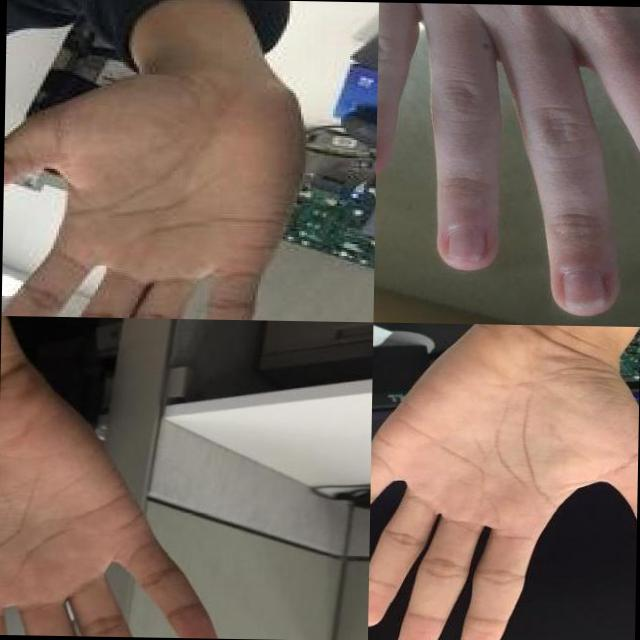Nail: (561, 267, 605, 308), (445, 225, 484, 260)
